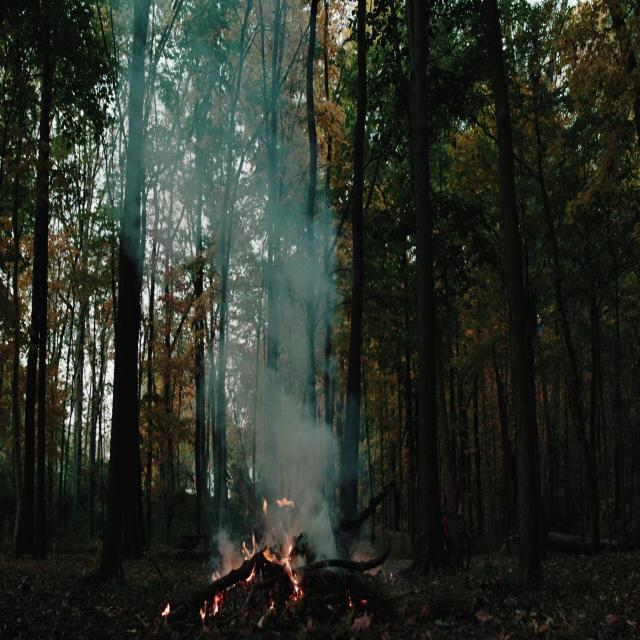Fire: (266, 518, 310, 612)
Smoke: (120, 4, 352, 557)
